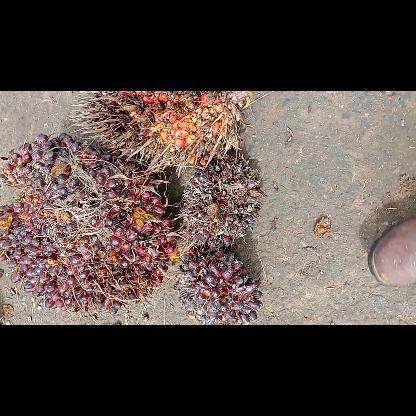TBS abnormal: (181, 156, 263, 248), (176, 248, 264, 324)
TBS masak: (0, 131, 178, 315)
Terlalu masak: (66, 92, 248, 180)
